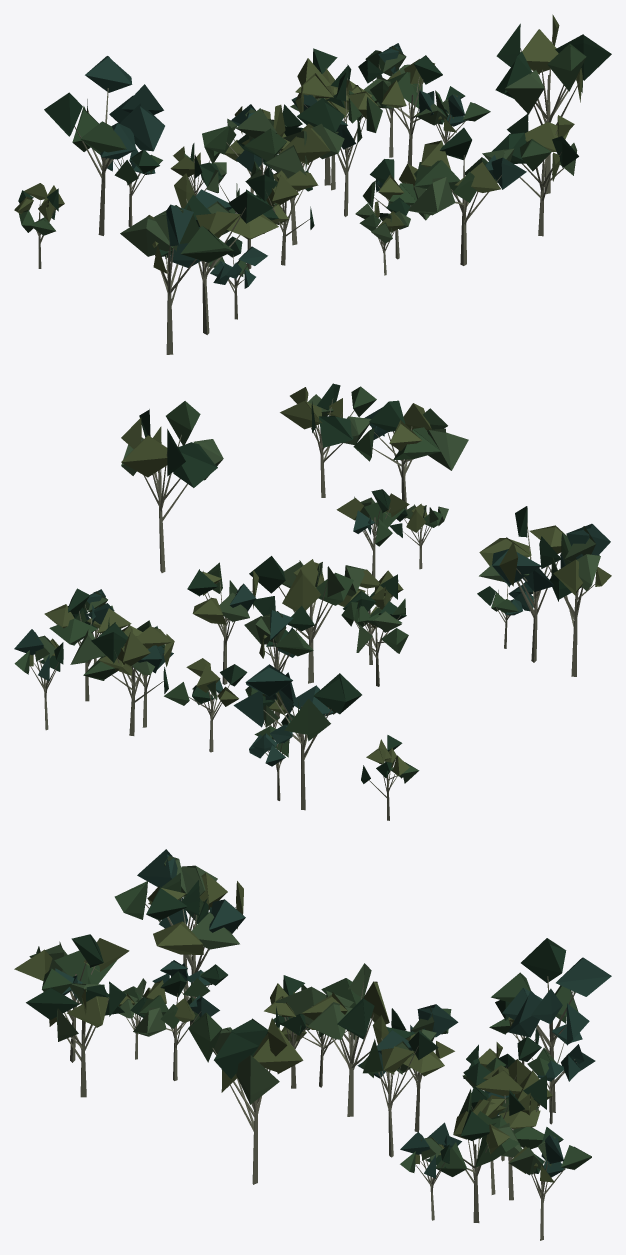
The model's file is forest_18_26.dae.
The picture shows the model from 3 angles, top to bottom: view 1: azimuth 30°, elevation 25°; view 2: azimuth 150°, elevation 25°; view 3: azimuth 270°, elevation 25°; orthographic projection. The views are drawn at different scales.
Parts seen in each view (by area): view 1: Node; view 2: Node; view 3: Node.
Boxes of the visible parts, <box> form: Node: <box>14,14,611,354</box>; Node: <box>14,383,611,820</box>; Node: <box>14,849,611,1240</box>.
Bounding box in the file's own units: 11.18 × 11.58 × 5.44.
